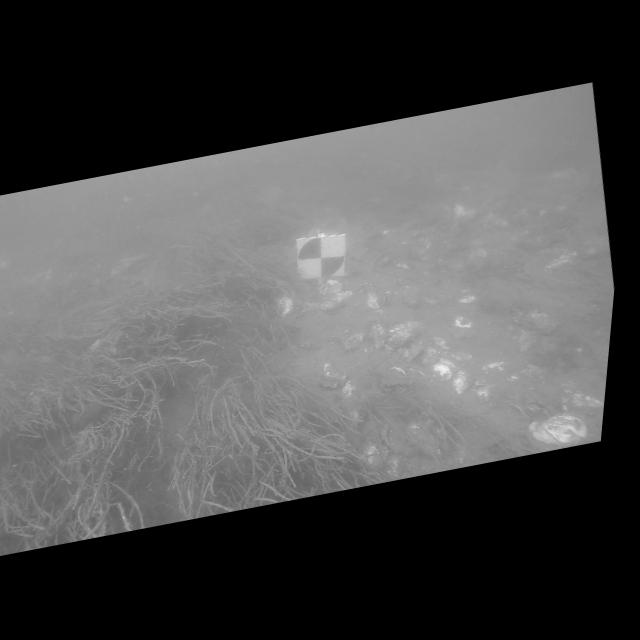Oyster-Closed: (528, 414, 587, 445), (386, 321, 424, 348), (317, 363, 346, 389), (370, 319, 386, 349), (319, 279, 342, 299), (341, 333, 364, 350), (367, 292, 387, 309)
Oyster-Indeterminate: (452, 316, 476, 339), (398, 343, 424, 362), (275, 296, 294, 318), (452, 371, 469, 394), (433, 363, 453, 379), (483, 361, 507, 374), (342, 380, 357, 400), (432, 337, 450, 351), (459, 290, 477, 304), (451, 351, 471, 362), (508, 375, 518, 381)
Oyster-Open: (376, 360, 413, 393), (320, 291, 352, 314), (381, 421, 396, 452)
